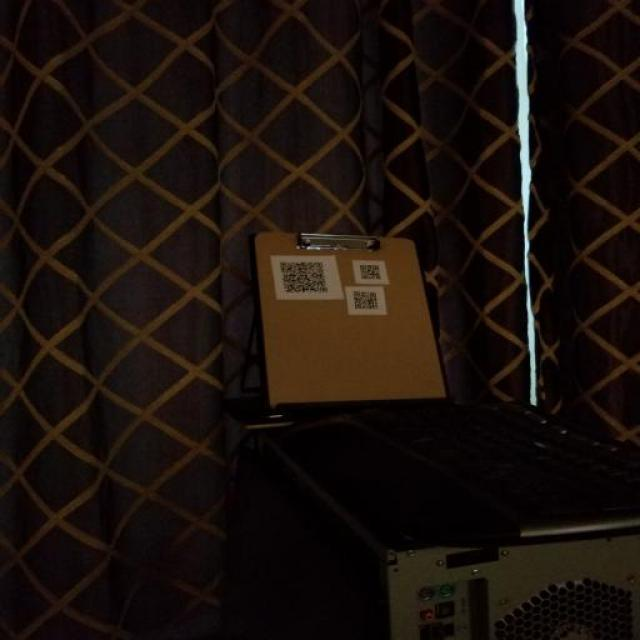QR_CODE: (275, 255, 333, 299), (349, 286, 385, 314), (357, 260, 388, 282)
